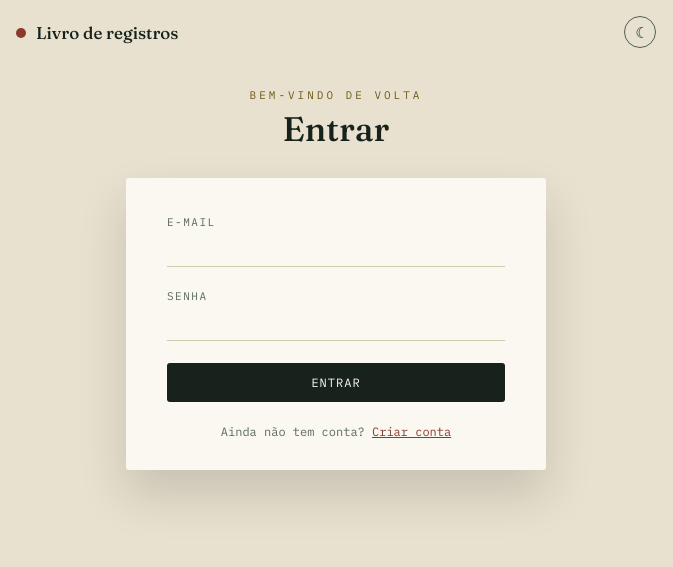
Test case: LoginPage › mostra o erro devolvido pela API
Step 1. Type "ana@example.com" into the field labelled "E-mail" → (336, 251), box [167,235,505,267]
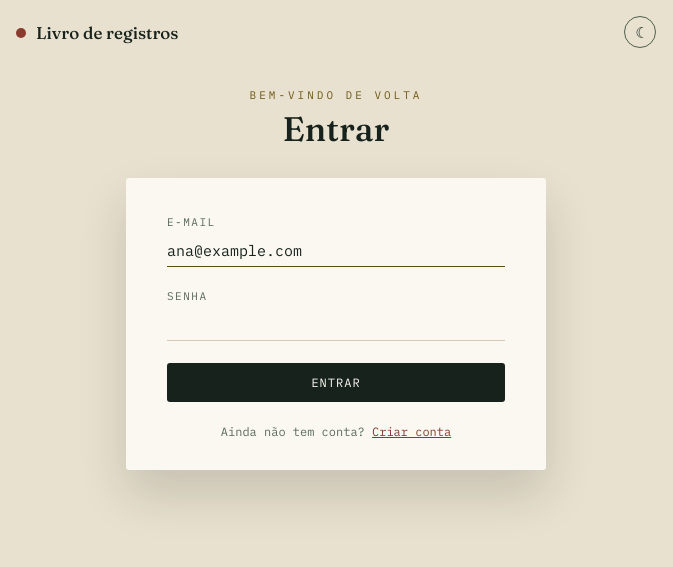
Step 2. Type "errada123" into the password field labelled "Senha" → (336, 325), box [167,309,505,341]
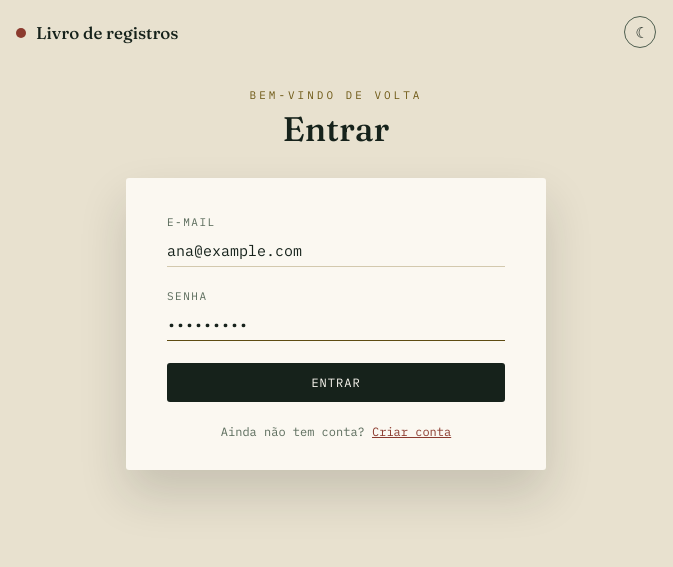
Step 3. Click the button "Entrar" → (336, 382), box [167,363,505,402]
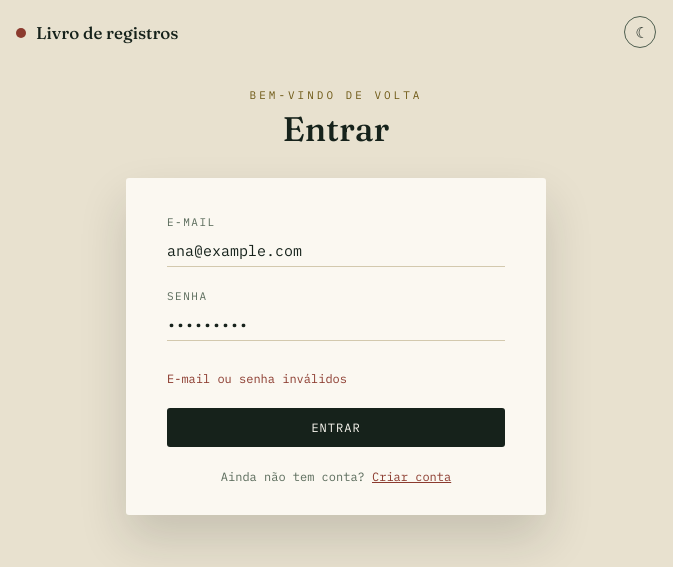
Check: the button "Entrar" is enabled, box [167,408,505,447]
Check: the message reads "E-mail ou senha inválidos", box [167,371,347,386]
